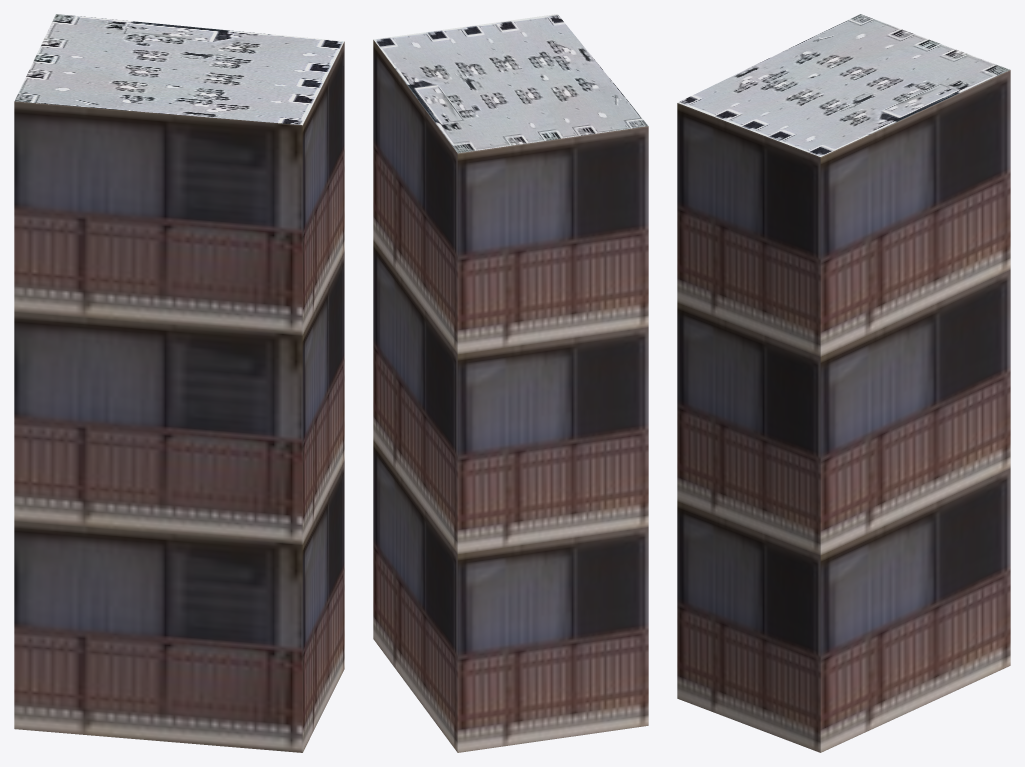
File: ResTex__3692.fbx
3 renders of one model, left to right at view 1: azimuth 30°, elevation 25°; view 2: azimuth 150°, elevation 25°; view 3: azimuth 270°, elevation 25°, orthographic. The views are drawn at different scales.
Parts seen in each view (by area): view 1: CityEngineMaterial_6_m, CityEngineMaterial_4_m; view 2: CityEngineMaterial_6_m, CityEngineMaterial_4_m; view 3: CityEngineMaterial_6_m, CityEngineMaterial_4_m.
Boxes of the visible parts, left/top/right/bottom form: CityEngineMaterial_6_m: left=14, top=41, right=344, bottom=752; CityEngineMaterial_4_m: left=15, top=14, right=344, bottom=125; CityEngineMaterial_6_m: left=373, top=40, right=648, bottom=752; CityEngineMaterial_4_m: left=373, top=14, right=648, bottom=153; CityEngineMaterial_6_m: left=677, top=70, right=1010, bottom=752; CityEngineMaterial_4_m: left=677, top=14, right=1010, bottom=156.
Bounding box in the file's own units: 4.64 × 9 × 4.56.
2 materials, 2 textured.
